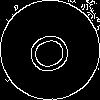O: (25, 25, 82, 79)
